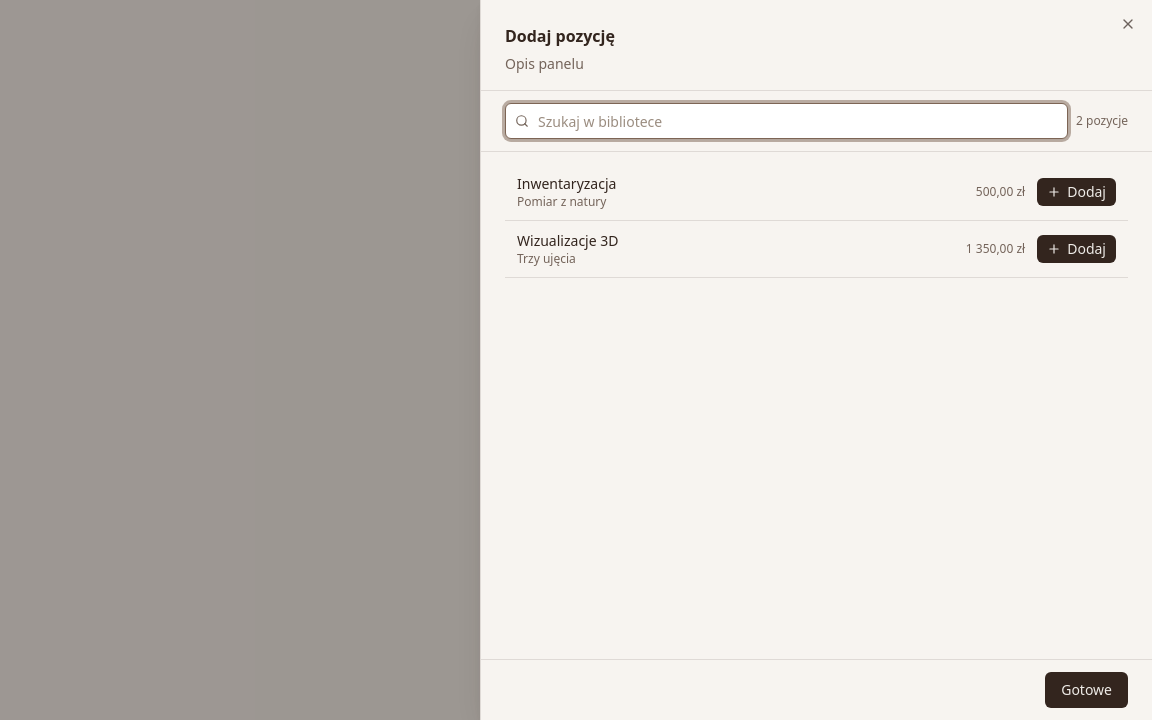
Test case: LibraryPickerSheet › szuka po nazwie, opisie i kolumnie z prawej
Type "ujęcia" into the field labelled "Szukaj w bibliotece".
click(787, 121); type("ujęcia")  # box x1=505 y1=103 x2=1068 y2=139
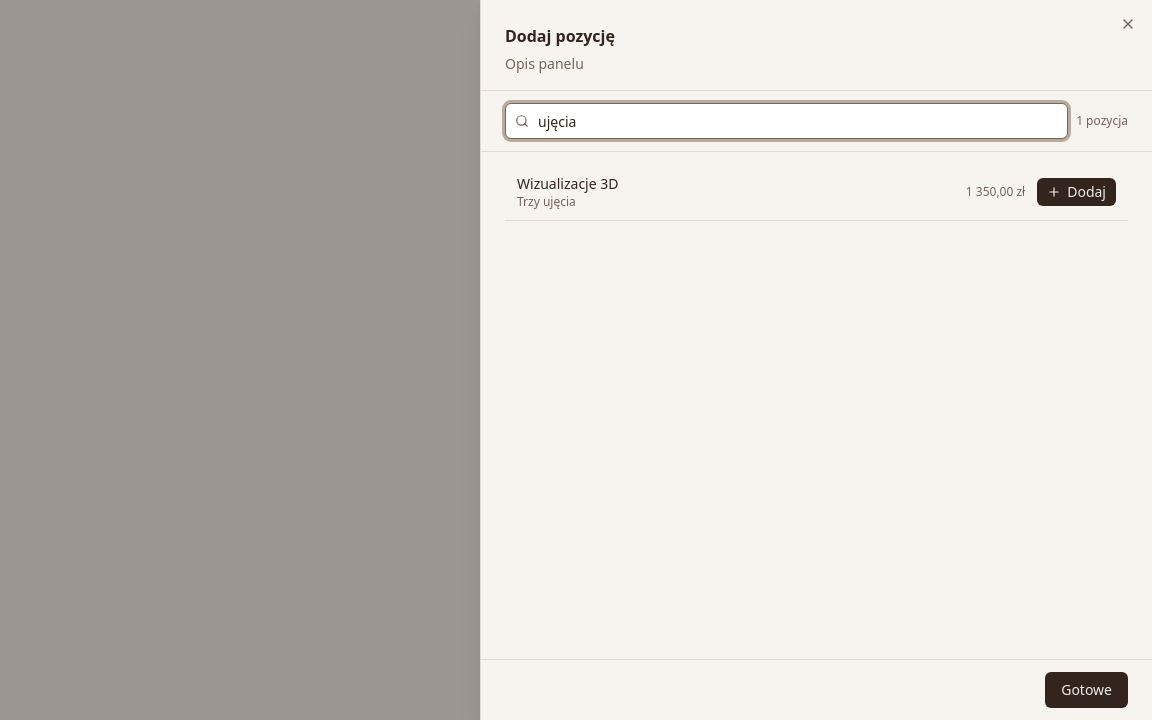
Expected: the text "Wizualizacje 3D" is shown, x1=517 y1=174 x2=618 y2=193
Expected: the text "Inwentaryzacja" is gone
